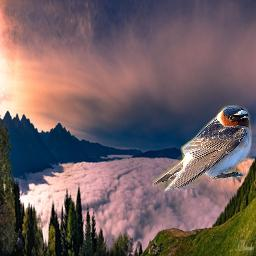Swallow: (152, 105, 252, 194)
